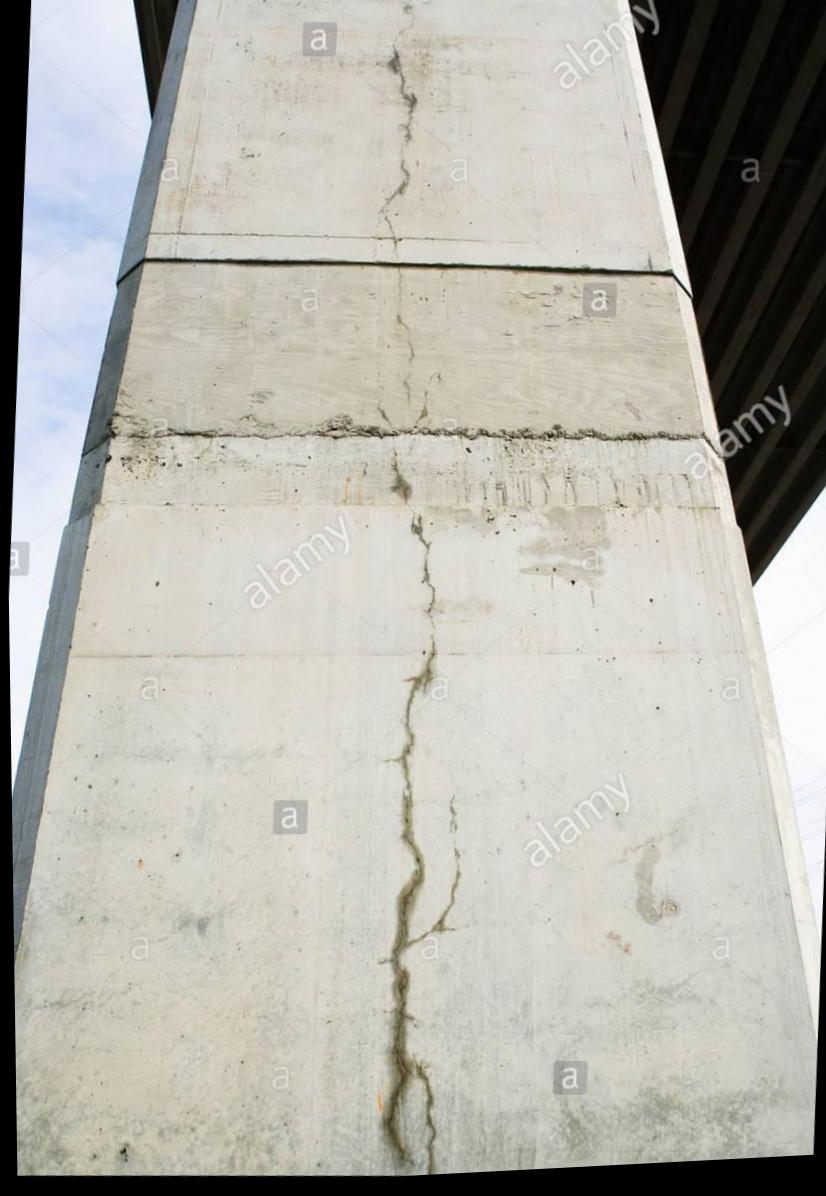crack: (373, 440, 459, 1179), (370, 0, 418, 265), (413, 375, 442, 430), (393, 266, 407, 337), (373, 373, 390, 431), (400, 342, 413, 412)
